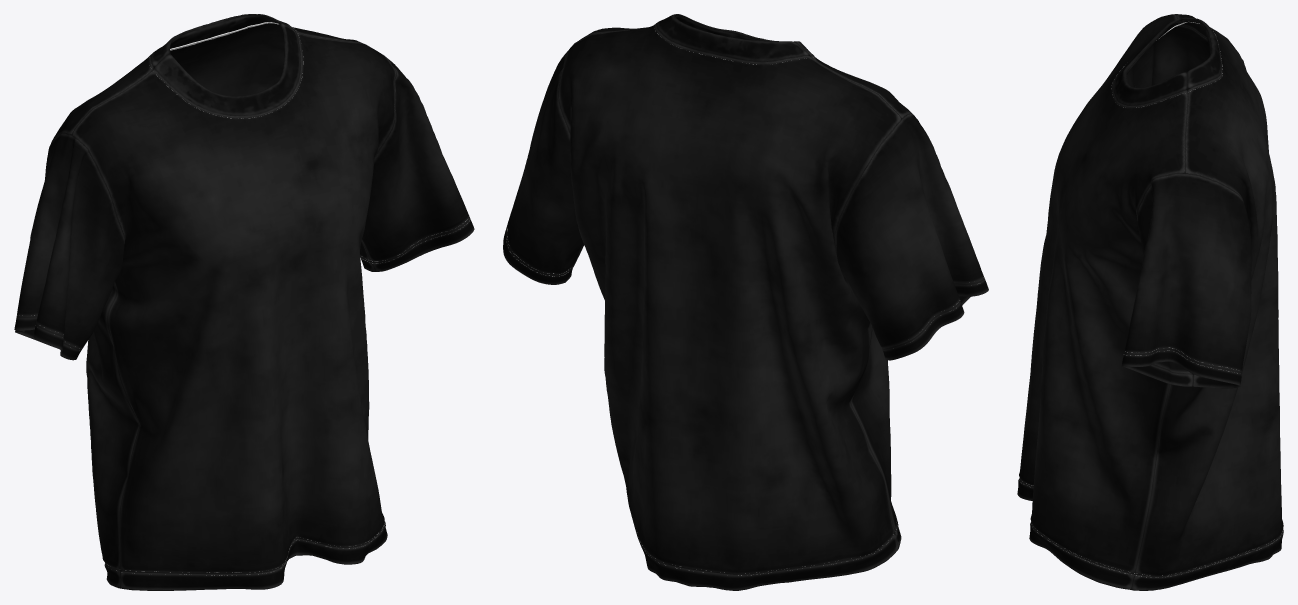
3 views of the same model, side by side, from view 1: azimuth 30°, elevation 25°; view 2: azimuth 150°, elevation 25°; view 3: azimuth 270°, elevation 25° (orthographic). The views are drawn at different scales.
Parts seen in each view (by area): view 1: T-shirt base.002; view 2: T-shirt base.002; view 3: T-shirt base.002.
Boxes of the visible parts, x1=… form: T-shirt base.002: x1=14, y1=14, x2=474, y2=590; T-shirt base.002: x1=503, y1=14, x2=988, y2=590; T-shirt base.002: x1=1017, y1=14, x2=1283, y2=590.
Size of the model in its own units: 0.641 by 0.7153 by 0.3449.
Materials: 4 (2 with a texture image).
